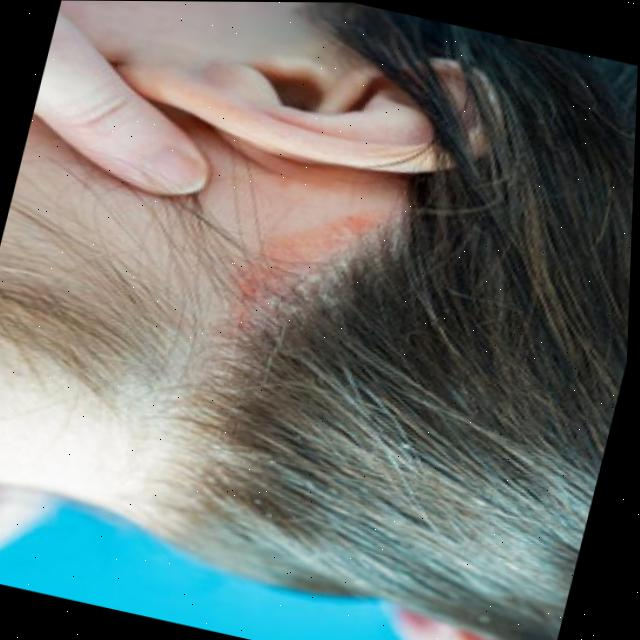Eczema: (213, 163, 405, 364)
